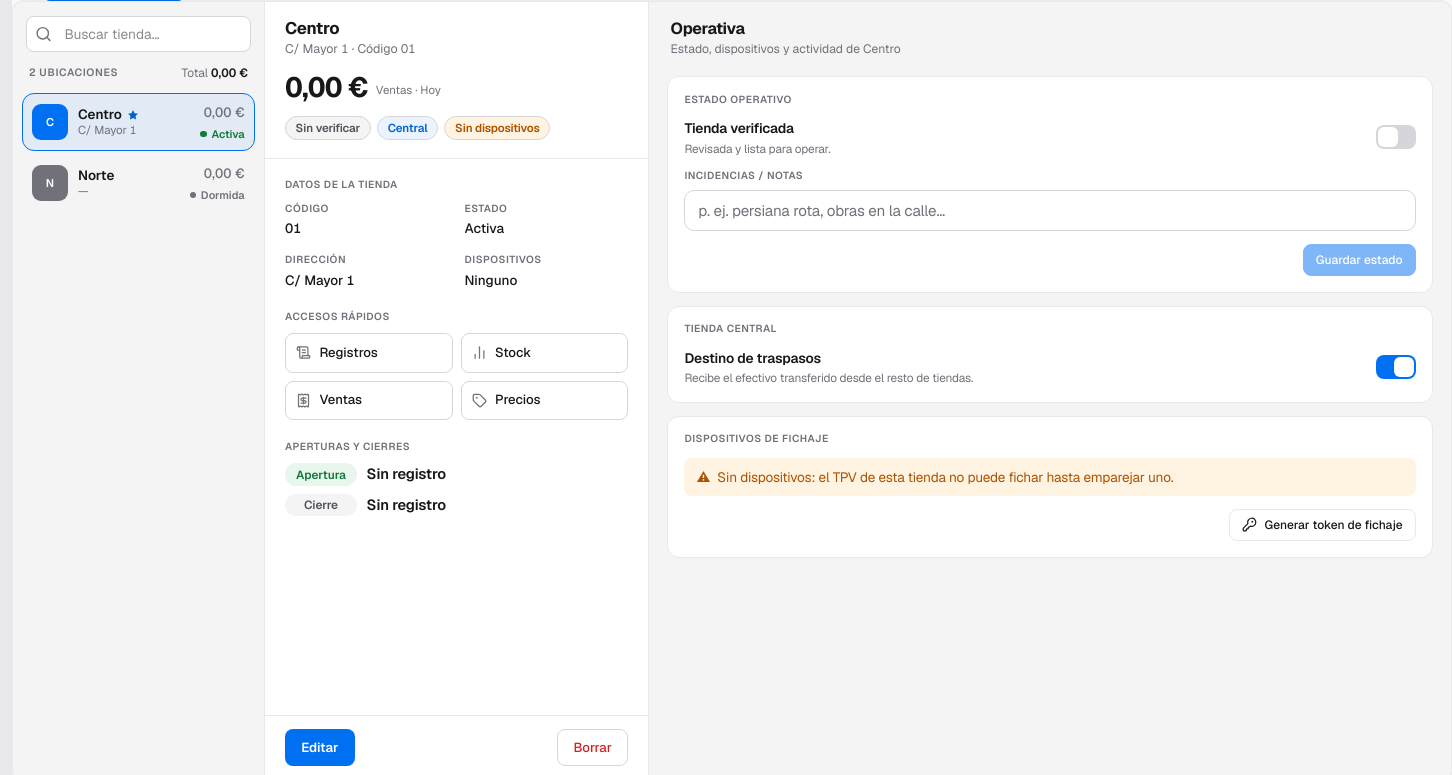
Test: StoresPage › selecciona una tienda de la lista y actualiza los paneles de detalle/operativa
expect the button with test id "store-lrow" that starts with "Centro" is shown: met, box [22,93,255,151]
What coordinates should you click on to do the following:
click the button with test id "store-lrow" showing "N Norte — 0,00 € Dormida"
I would click on:
 (138, 183)
Its box is [22,154,255,212].
(page scrolled)
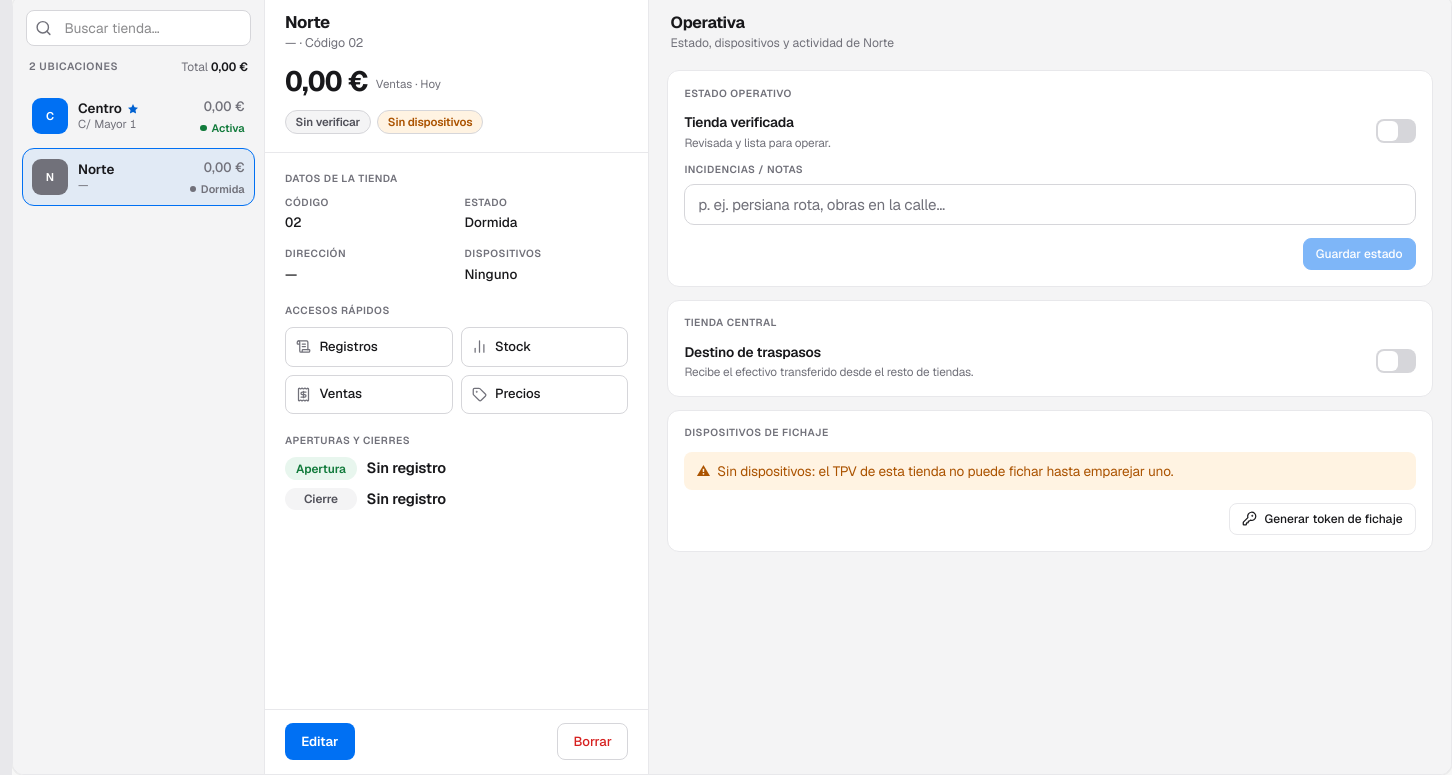
expect the element with test id "store-detail-panel" shows "Norte": met, box [285,11,330,33]
expect the element with test id "store-ops-panel" shows "Norte": met, box [863,35,894,51]
